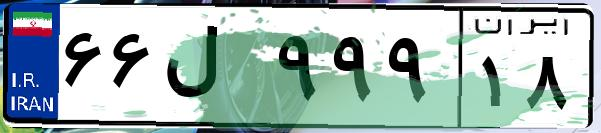1: (475, 38, 525, 113)
6: (57, 26, 110, 100), (110, 28, 158, 98)
8: (525, 38, 570, 115)
9: (270, 28, 330, 110), (385, 28, 445, 110), (330, 28, 385, 110)
ل: (158, 20, 270, 120)
